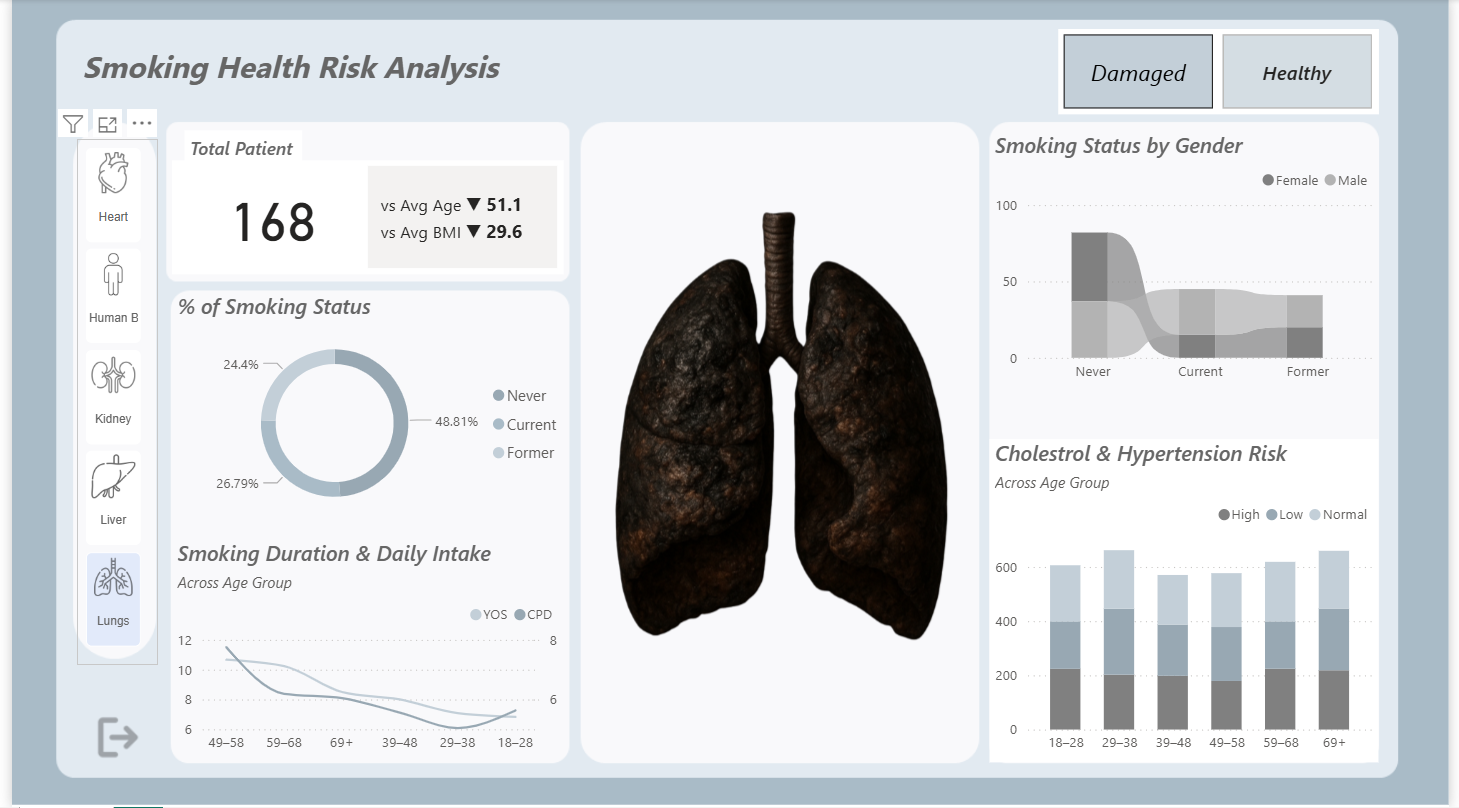

This screenshot's page, from the dashboard's own definition file:
{"tool":"powerbi","page":{"name":"Page 1","canvas":[1280,720],"ordinal":0},"visuals":[{"type":"cardVisual","fields":{"Data":["CountNonNull(health_dataset.Patient_ID)"]},"box":[142.4,143.6,348.7,101.3],"z":0},{"type":"textbox","box":[153.2,117,105,37.4],"z":1000},{"type":"advancedSlicerVisual","fields":{"Values":["condition.Organ_Condition"]},"box":[931.4,26.5,285.9,76],"z":2000},{"type":"ChicletSlicer1448559807354","fields":{"Category":["Organs.Organ"],"Image":["Organs.Icon_URL"]},"box":[57.9,124.3,72.4,469.3],"z":3000},{"type":"simpleImageEBC4593F96F1425FB3D84C5BF02B5075","fields":{"imageURL":["Image Dataset.Image URL"]},"box":[520,102.5,330.6,577.9],"z":4000},{"type":"donutChart","title":"% of Smoking Status","fields":{"Category":["health_dataset.Smoking_Status"],"Y":["CountNonNull(health_dataset.Smoking_Status)"]},"box":[142.4,260.6,357.1,209.9],"z":5000},{"type":"lineChart","title":"Smoking Duration & Daily Intake","fields":{"Category":["health_dataset.Age Group"],"Y":["Avg(health_dataset.Years_of_Smoking)"],"Y2":["Avg(health_dataset.Cigarettes_Per_Day)"]},"box":[142.4,481.4,348.7,199.1],"z":6000},{"type":"ribbonChart","title":"Smoking Status by Gender","fields":{"Category":["health_dataset.Smoking_Status"],"Y":["CountNonNull(health_dataset.Patient_ID)"],"Series":["health_dataset.Gender"]},"box":[871.1,117,346.2,232.8],"z":7000},{"type":"columnChart","title":"Cholestrol & Hypertension Risk","fields":{"Category":["health_dataset.Age Group"],"Y":["Avg(health_dataset.Cholesterol_Level)"],"Series":["health_dataset.BP_Risk"]},"box":[871.1,392.1,346.2,288.3],"z":8000},{"type":"textbox","box":[57.9,36.2,382.4,53.1],"z":9000}]}

Visuals, with their boxes in screenshot pixels (x1, y1, x2, y2), scaled from the page's 1280x720 canvas onto the 1459x808 screenshot:
cardVisual - CountNonNull(health_dataset.Patient_ID): bbox=(162, 161, 560, 275)
textbox: bbox=(175, 131, 294, 173)
advancedSlicerVisual - condition.Organ_Condition: bbox=(1062, 30, 1388, 115)
ChicletSlicer1448559807354 - Organs.Organ x Organs.Icon_URL: bbox=(66, 139, 149, 666)
simpleImageEBC4593F96F1425FB3D84C5BF02B5075 - Image Dataset.Image URL: bbox=(593, 115, 970, 764)
"% of Smoking Status" donutChart: bbox=(162, 292, 569, 528)
"Smoking Duration & Daily Intake" lineChart: bbox=(162, 540, 560, 764)
"Smoking Status by Gender" ribbonChart: bbox=(993, 131, 1388, 393)
"Cholestrol & Hypertension Risk" columnChart: bbox=(993, 440, 1388, 764)
textbox: bbox=(66, 41, 502, 100)
